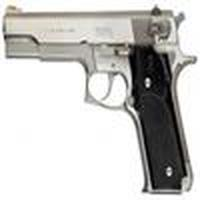gun: (6, 13, 194, 195)
